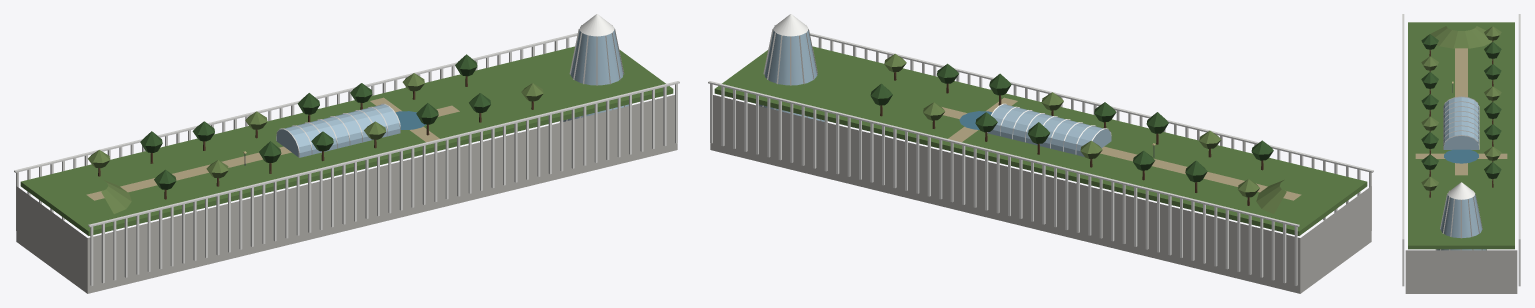
The model's file is desktop.glb.
The picture shows the model from 3 angles, left to right: view 1: azimuth 30°, elevation 25°; view 2: azimuth 150°, elevation 25°; view 3: azimuth 270°, elevation 25°; orthographic projection. The views are drawn at different scales.
Visible parts, largest first — view 1: lm.transit-center-park; view 2: lm.transit-center-park; view 3: lm.transit-center-park.
Boxes of the visible parts, <box> form: lm.transit-center-park: <box>14,14,679,293</box>; lm.transit-center-park: <box>708,14,1373,293</box>; lm.transit-center-park: <box>1402,14,1520,293</box>.
Bounding box in the file's own units: 210 × 41.05 × 46.7.
